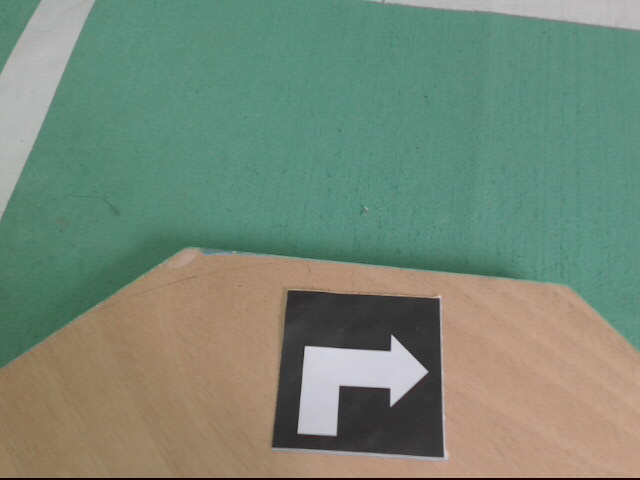right: (272, 291, 446, 456)
